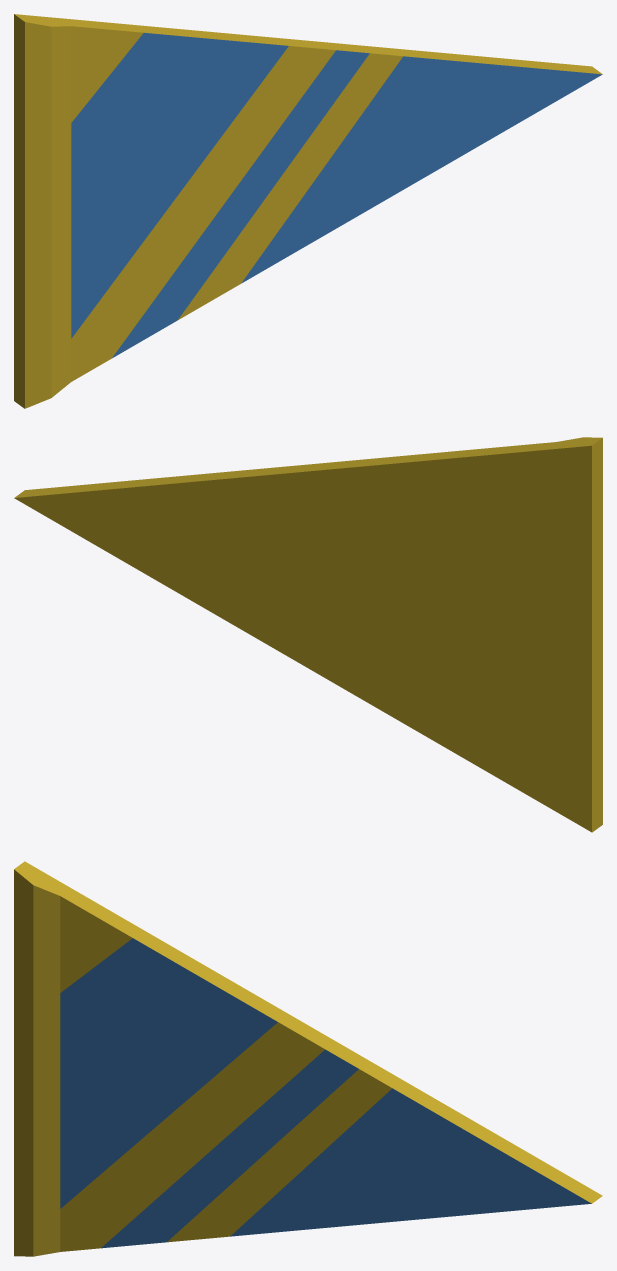
The model's file is SM_Prop_Triangle_Flag_01.obj.
3 renders of one model, top to bottom at view 1: azimuth 30°, elevation 25°; view 2: azimuth 150°, elevation 25°; view 3: azimuth 330°, elevation 25°, orthographic.
Visible parts, largest first — view 1: SM_Prop_Triangle_Flag_01_0; view 2: SM_Prop_Triangle_Flag_01_0; view 3: SM_Prop_Triangle_Flag_01_0.
Boxes of the visible parts, x1,y1,x2,y2 form: SM_Prop_Triangle_Flag_01_0: (14,14,602,408); SM_Prop_Triangle_Flag_01_0: (14,437,602,832); SM_Prop_Triangle_Flag_01_0: (14,861,602,1256).
Bounding box in the file's own units: 0.8237 × 0.5268 × 0.0356.
1 material, 1 textured.
